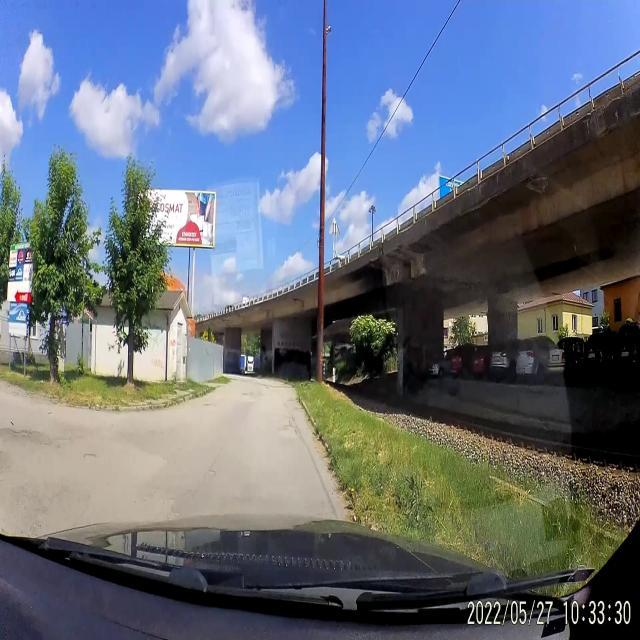Pothole: (3, 424, 57, 449), (279, 422, 299, 442), (82, 451, 100, 464)
